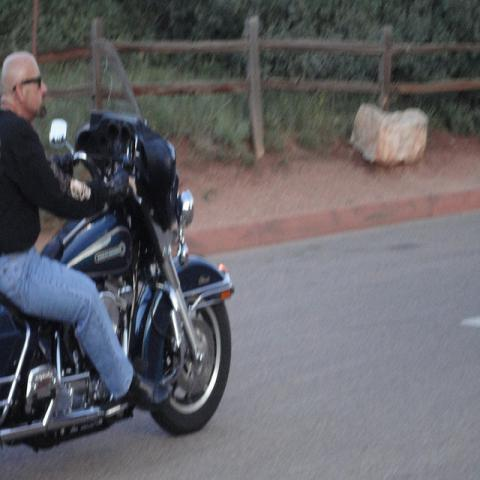motorcycle: (2, 111, 237, 447)
